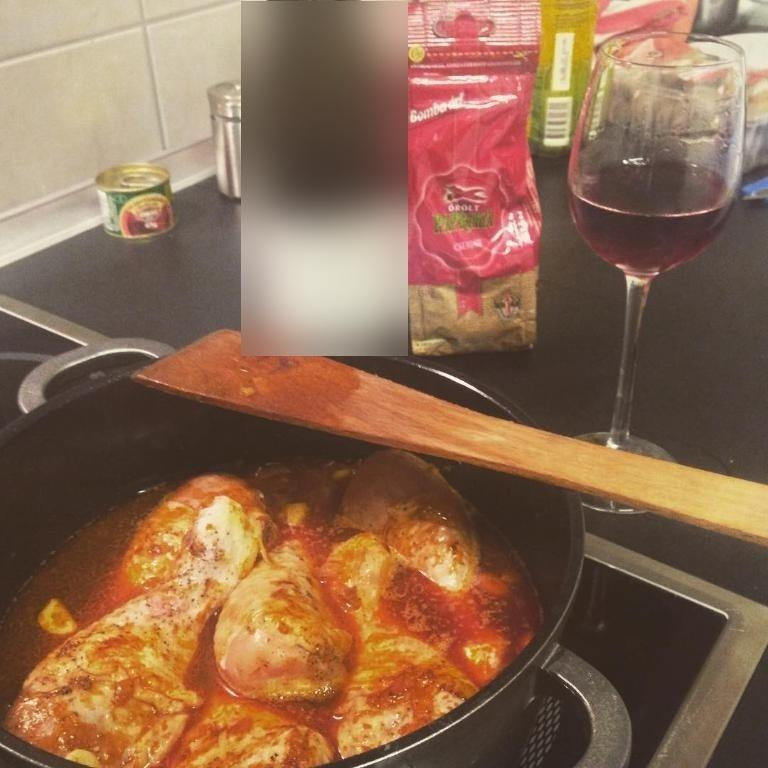glass-wine: (562, 31, 748, 519)
